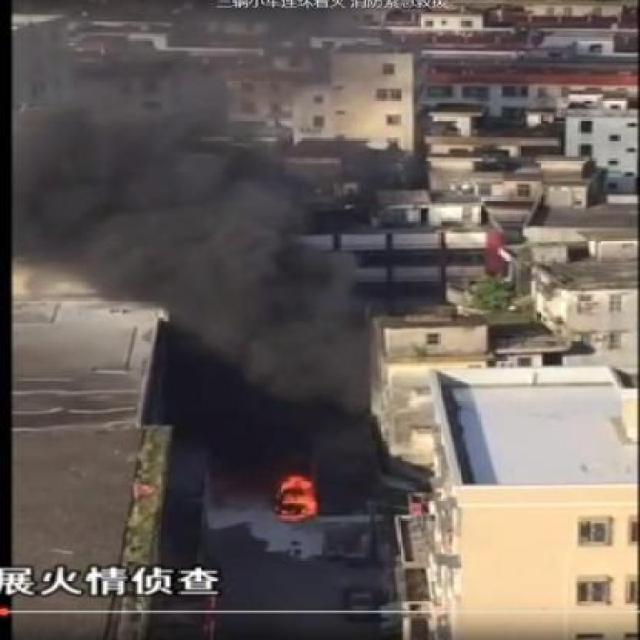Fire: (272, 468, 324, 530)
Smoke: (18, 10, 376, 423)
